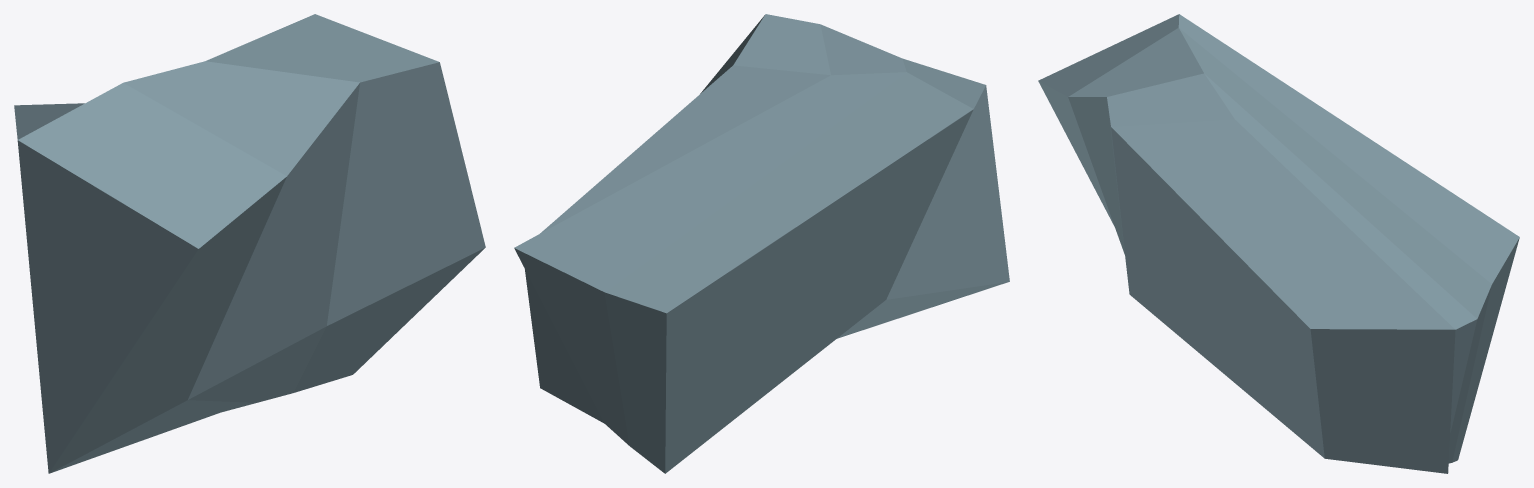
File: Rock_fbx.fbx
3 renders of one model, left to right at view 1: azimuth 30°, elevation 25°; view 2: azimuth 150°, elevation 25°; view 3: azimuth 270°, elevation 25°, orthographic. The views are drawn at different scales.
Parts seen in each view (by area): view 1: Cube; view 2: Cube; view 3: Cube.
Boxes of the visible parts, x1,y1,x2,y2 form: Cube: (14, 14, 485, 473); Cube: (514, 14, 1009, 473); Cube: (1038, 14, 1519, 473).
Size of the model in its own units: 842 by 811 by 954.
